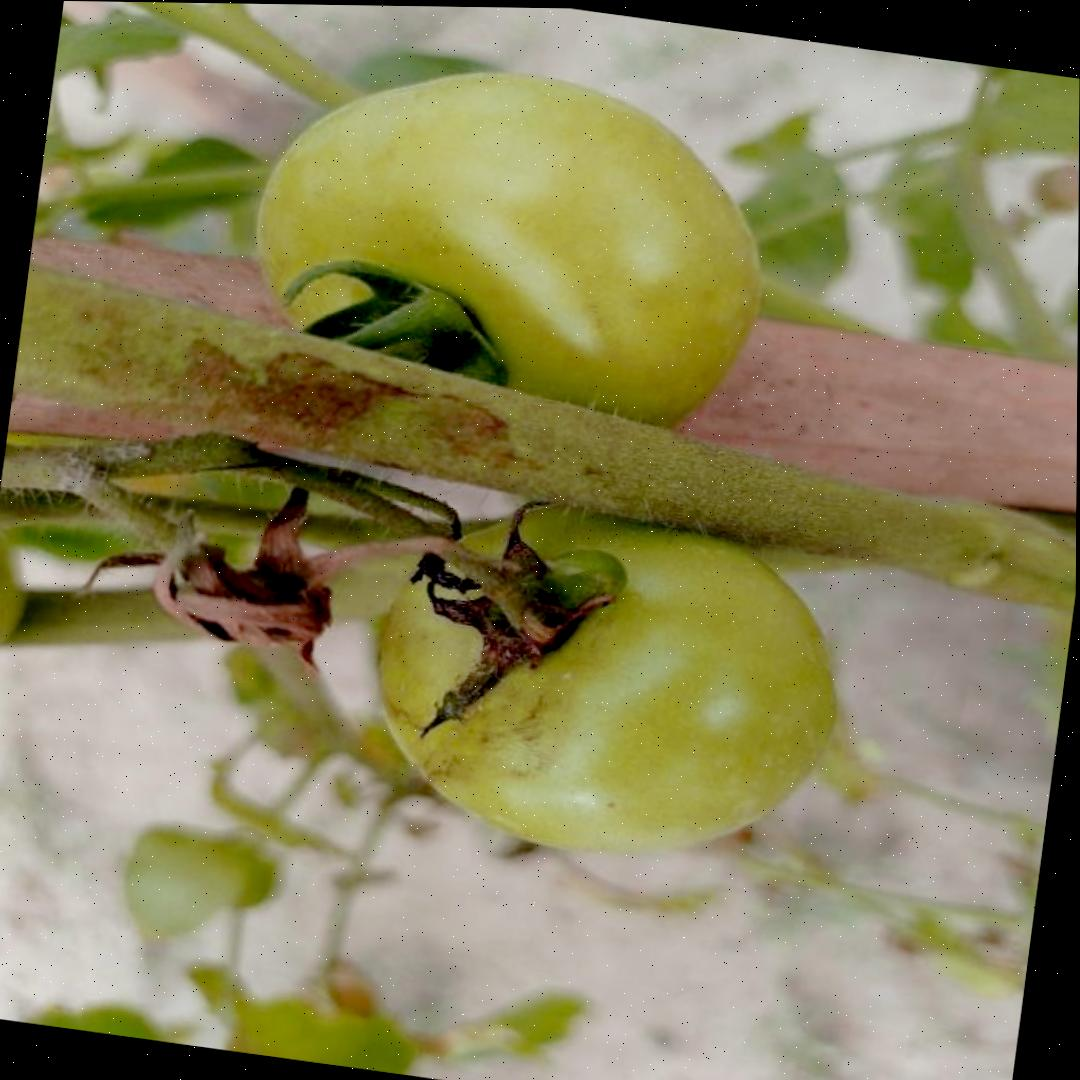mentah: (220, 33, 788, 488), (351, 471, 860, 886)
